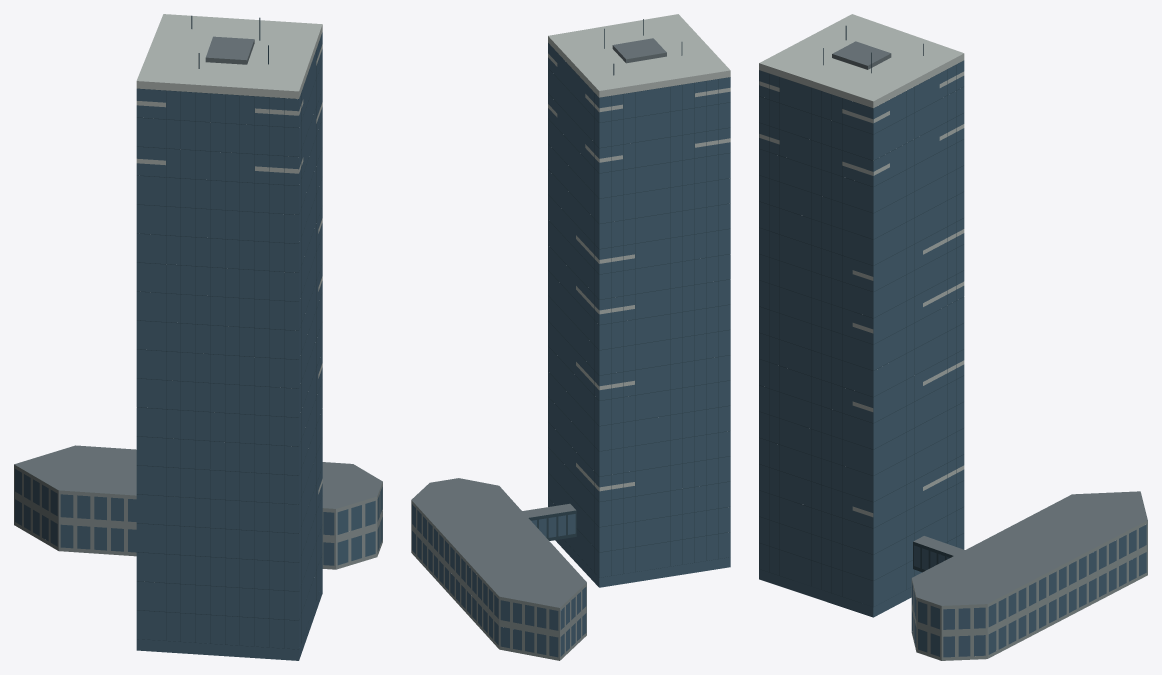
File: tour-du-midi-far.glb
3 renders of one model, left to right at view 1: azimuth 30°, elevation 25°; view 2: azimuth 150°, elevation 25°; view 3: azimuth 270°, elevation 25°, orthographic. The views are drawn at different scales.
Visible parts, largest first — view 1: tour-du-midi-0-glass, tour-du-midi-0-infill, tour-du-midi-0-mullion, tour-du-midi-0-roof, tour-du-midi-0-stone; view 2: tour-du-midi-0-glass, tour-du-midi-0-roof, tour-du-midi-0-infill, tour-du-midi-0-mullion, tour-du-midi-0-stone; view 3: tour-du-midi-0-glass, tour-du-midi-0-roof, tour-du-midi-0-infill, tour-du-midi-0-mullion, tour-du-midi-0-stone.
Boxes of the visible parts, box(x1,y1,x2,y2) form: tour-du-midi-0-glass: box(15, 32, 382, 660); tour-du-midi-0-infill: box(136, 14, 322, 494); tour-du-midi-0-mullion: box(136, 15, 322, 649); tour-du-midi-0-roof: box(14, 36, 382, 508); tour-du-midi-0-stone: box(14, 464, 382, 569); tour-du-midi-0-glass: box(412, 43, 730, 657); tour-du-midi-0-roof: box(411, 38, 666, 607); tour-du-midi-0-infill: box(548, 14, 730, 491); tour-du-midi-0-mullion: box(528, 19, 730, 577); tour-du-midi-0-stone: box(411, 500, 586, 660); tour-du-midi-0-glass: box(759, 60, 1146, 657); tour-du-midi-0-roof: box(832, 41, 1147, 605); tour-du-midi-0-infill: box(759, 14, 964, 517); tour-du-midi-0-mullion: box(759, 25, 963, 607); tour-du-midi-0-stone: box(911, 520, 1147, 660).
Size of the model in its own units: 81.51 by 156 by 102.
